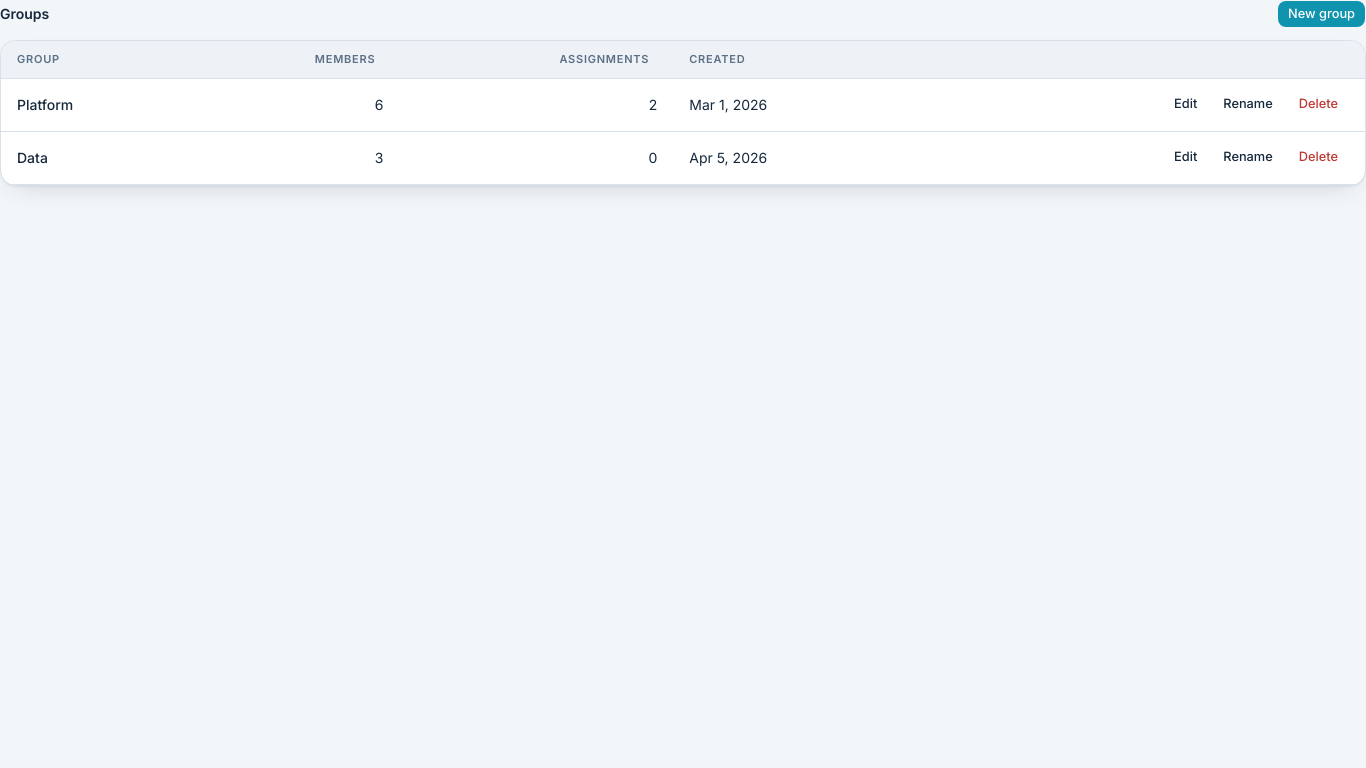
Test case: GroupsTab › group membership (Edit) › opens with nothing checked for a group with no current members (g2)
Click the button "Edit" in the row of "Data". click: x=1186, y=158
box: [1163,144,1208,172]
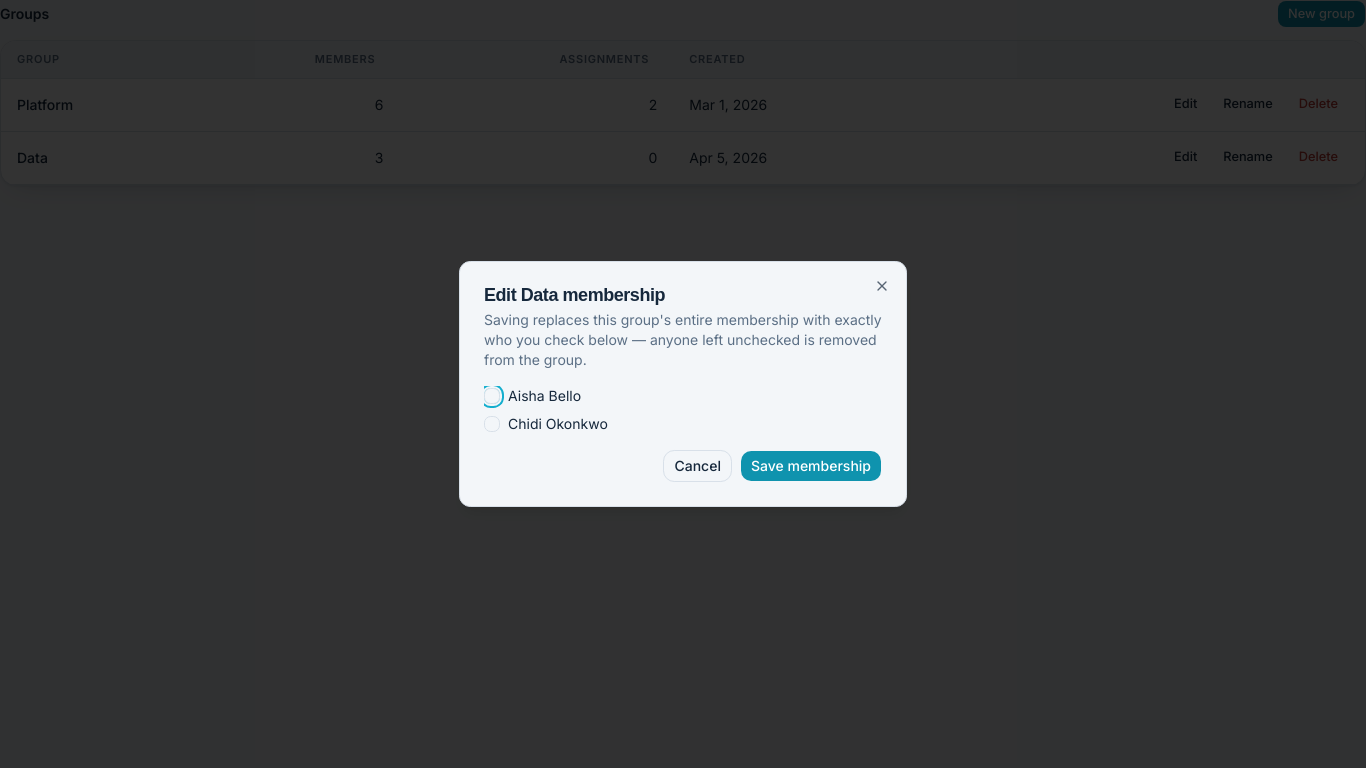
Expected: the checkbox named "Aisha Bello" is not checked, [484,388,500,404]
Expected: the checkbox named "Chidi Okonkwo" is not checked, [484,416,500,432]
